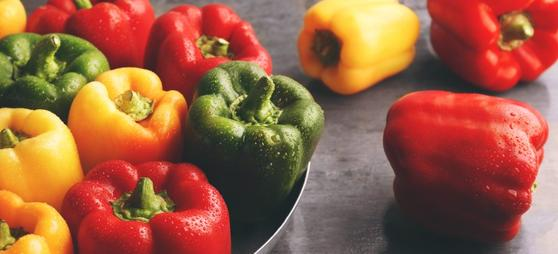pepper: (380, 87, 553, 242), (65, 157, 234, 254), (426, 1, 557, 87), (147, 5, 272, 80)
